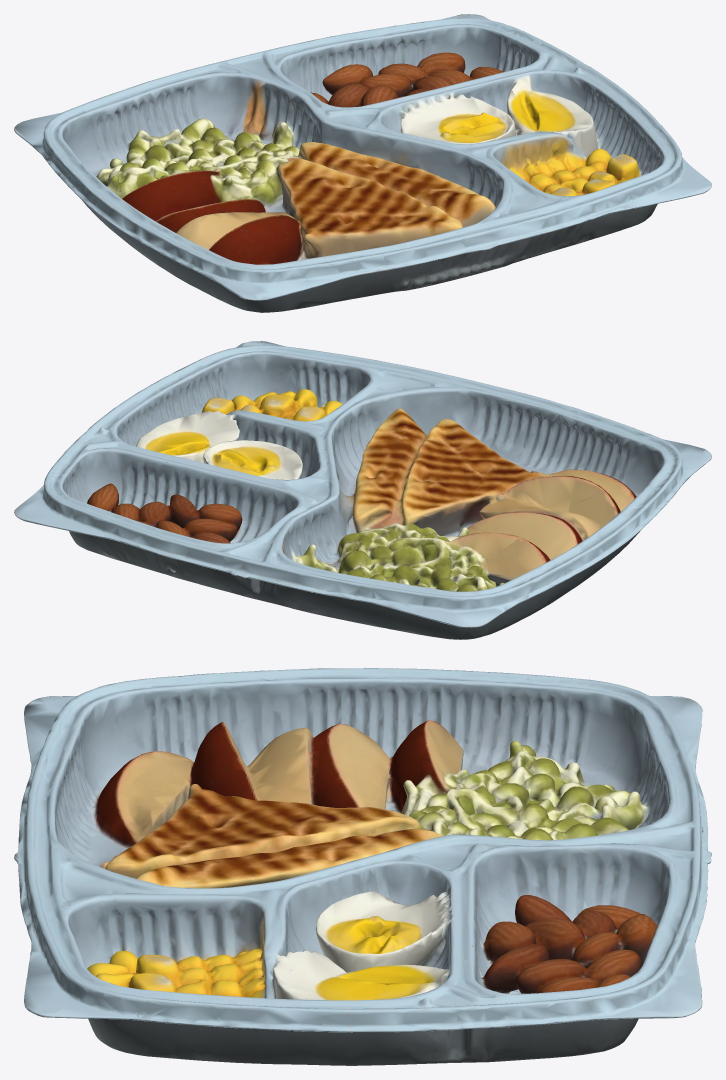
Rendered from Kid_non_veg_sandwhich.glb.
The picture shows the model from 3 angles, top to bottom: view 1: azimuth 30°, elevation 25°; view 2: azimuth 150°, elevation 25°; view 3: azimuth 270°, elevation 25°; orthographic projection. The views are drawn at different scales.
Bounding box in the file's own units: 1.89 × 0.1994 × 1.59.
Materials: 1 (1 with a texture image).
